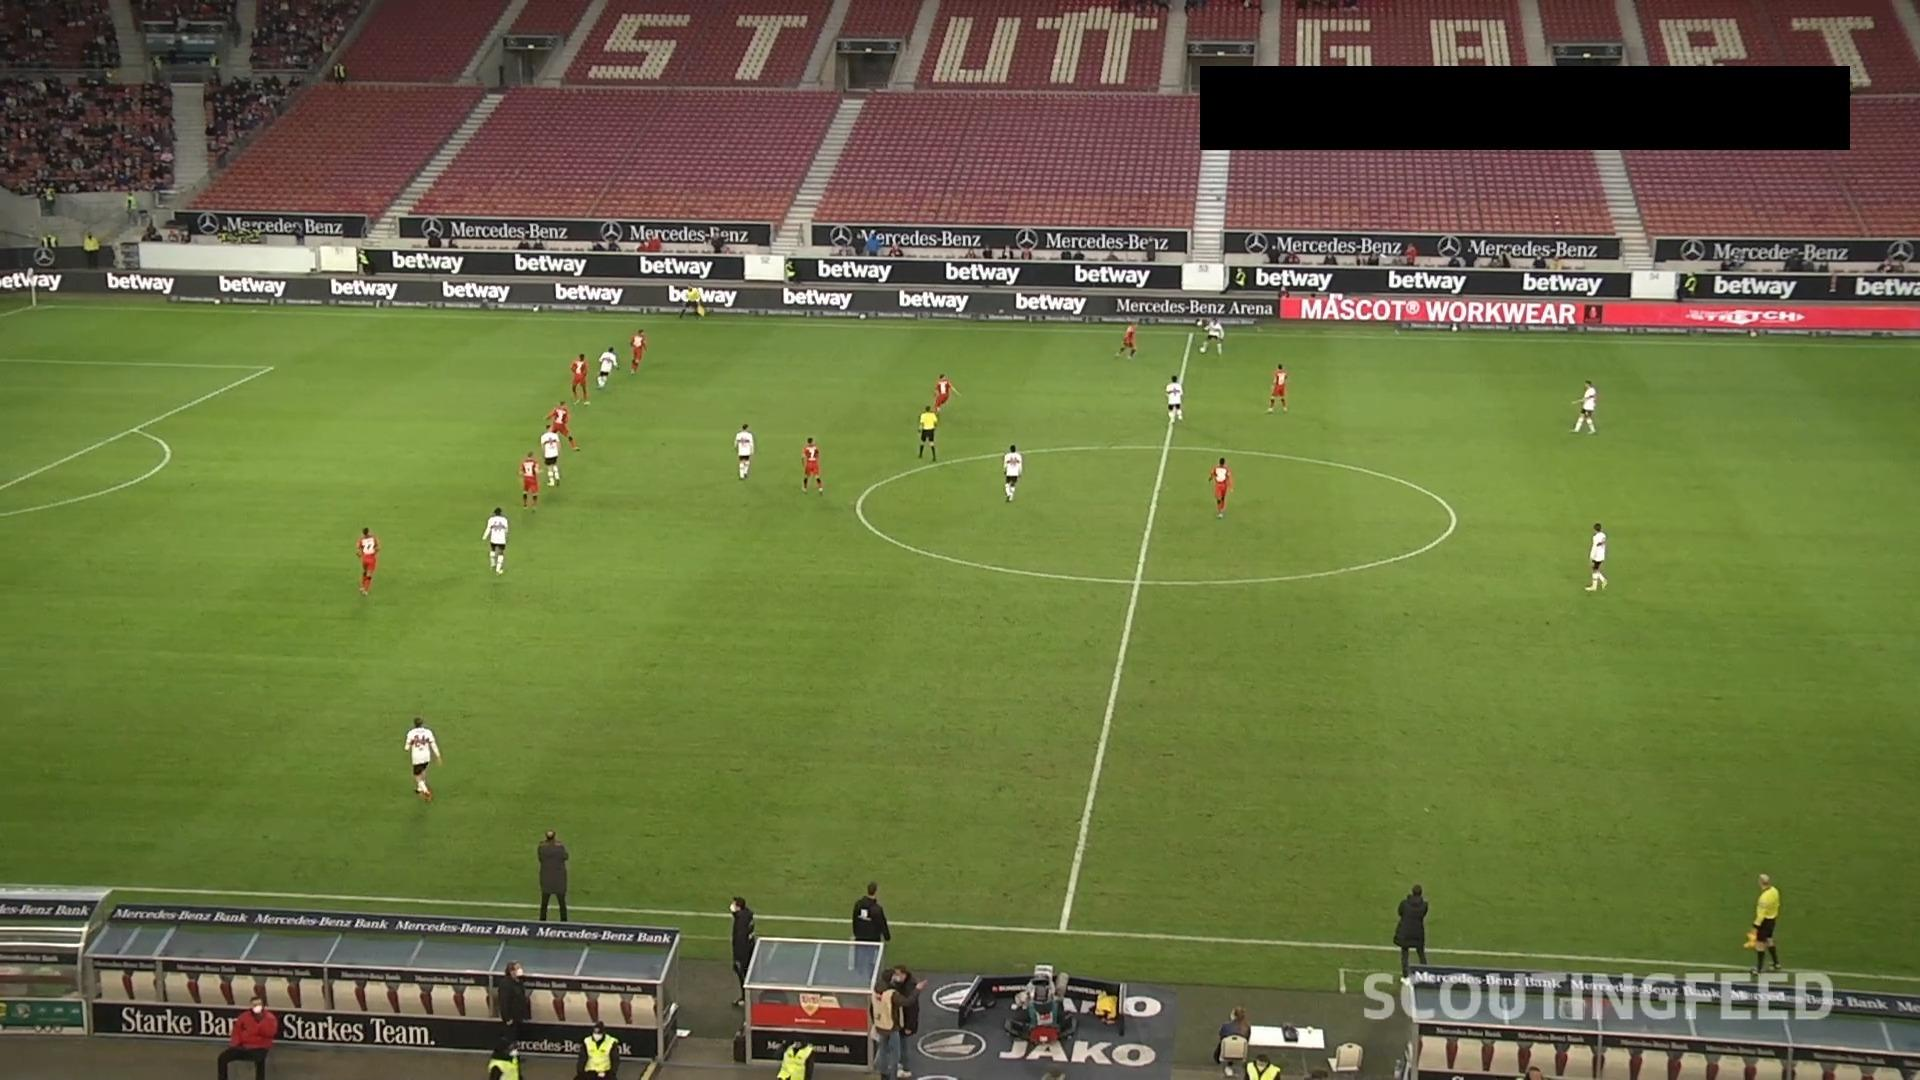ball: (1197, 344, 1208, 355)
